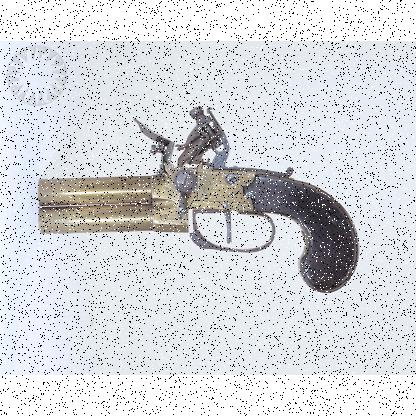gun: (38, 106, 360, 292)
